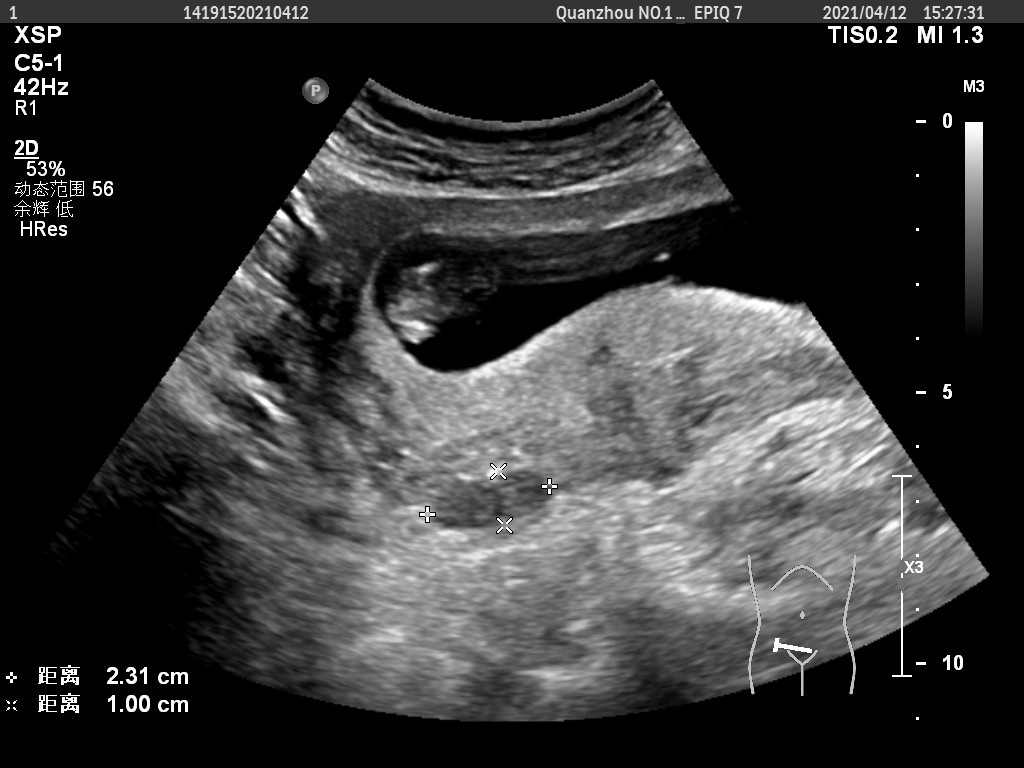肌瘤: (431, 477, 541, 526)
